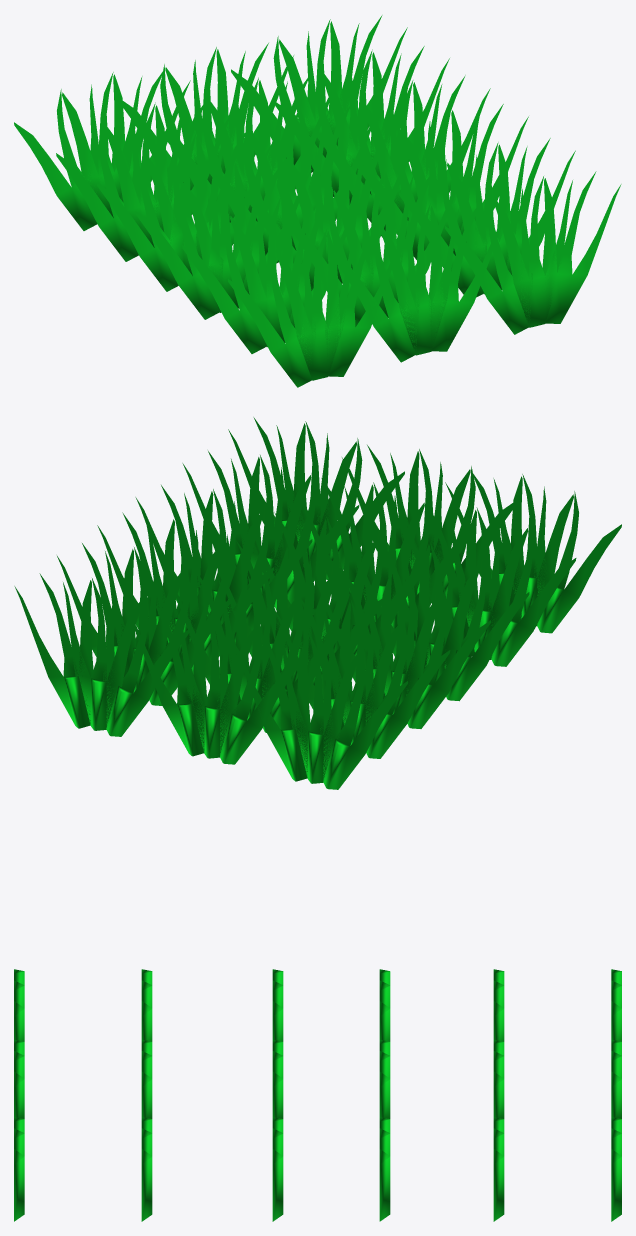
File: grassa.fbx
3 views of the same model, one above another, from view 1: azimuth 30°, elevation 25°; view 2: azimuth 150°, elevation 25°; view 3: azimuth 270°, elevation 25° (orthographic). The views are drawn at different scales.
Parts seen in each view (by area): view 1: manygrassa; view 2: manygrassa; view 3: manygrassa.
Part boxes in pixels (x1=…): manygrassa: x1=14, y1=15, x2=621, y2=387; manygrassa: x1=14, y1=417, x2=621, y2=789; manygrassa: x1=14, y1=969, x2=621, y2=1221.
Size of the model in its own units: 4.14 by 1.54 by 3.96.
